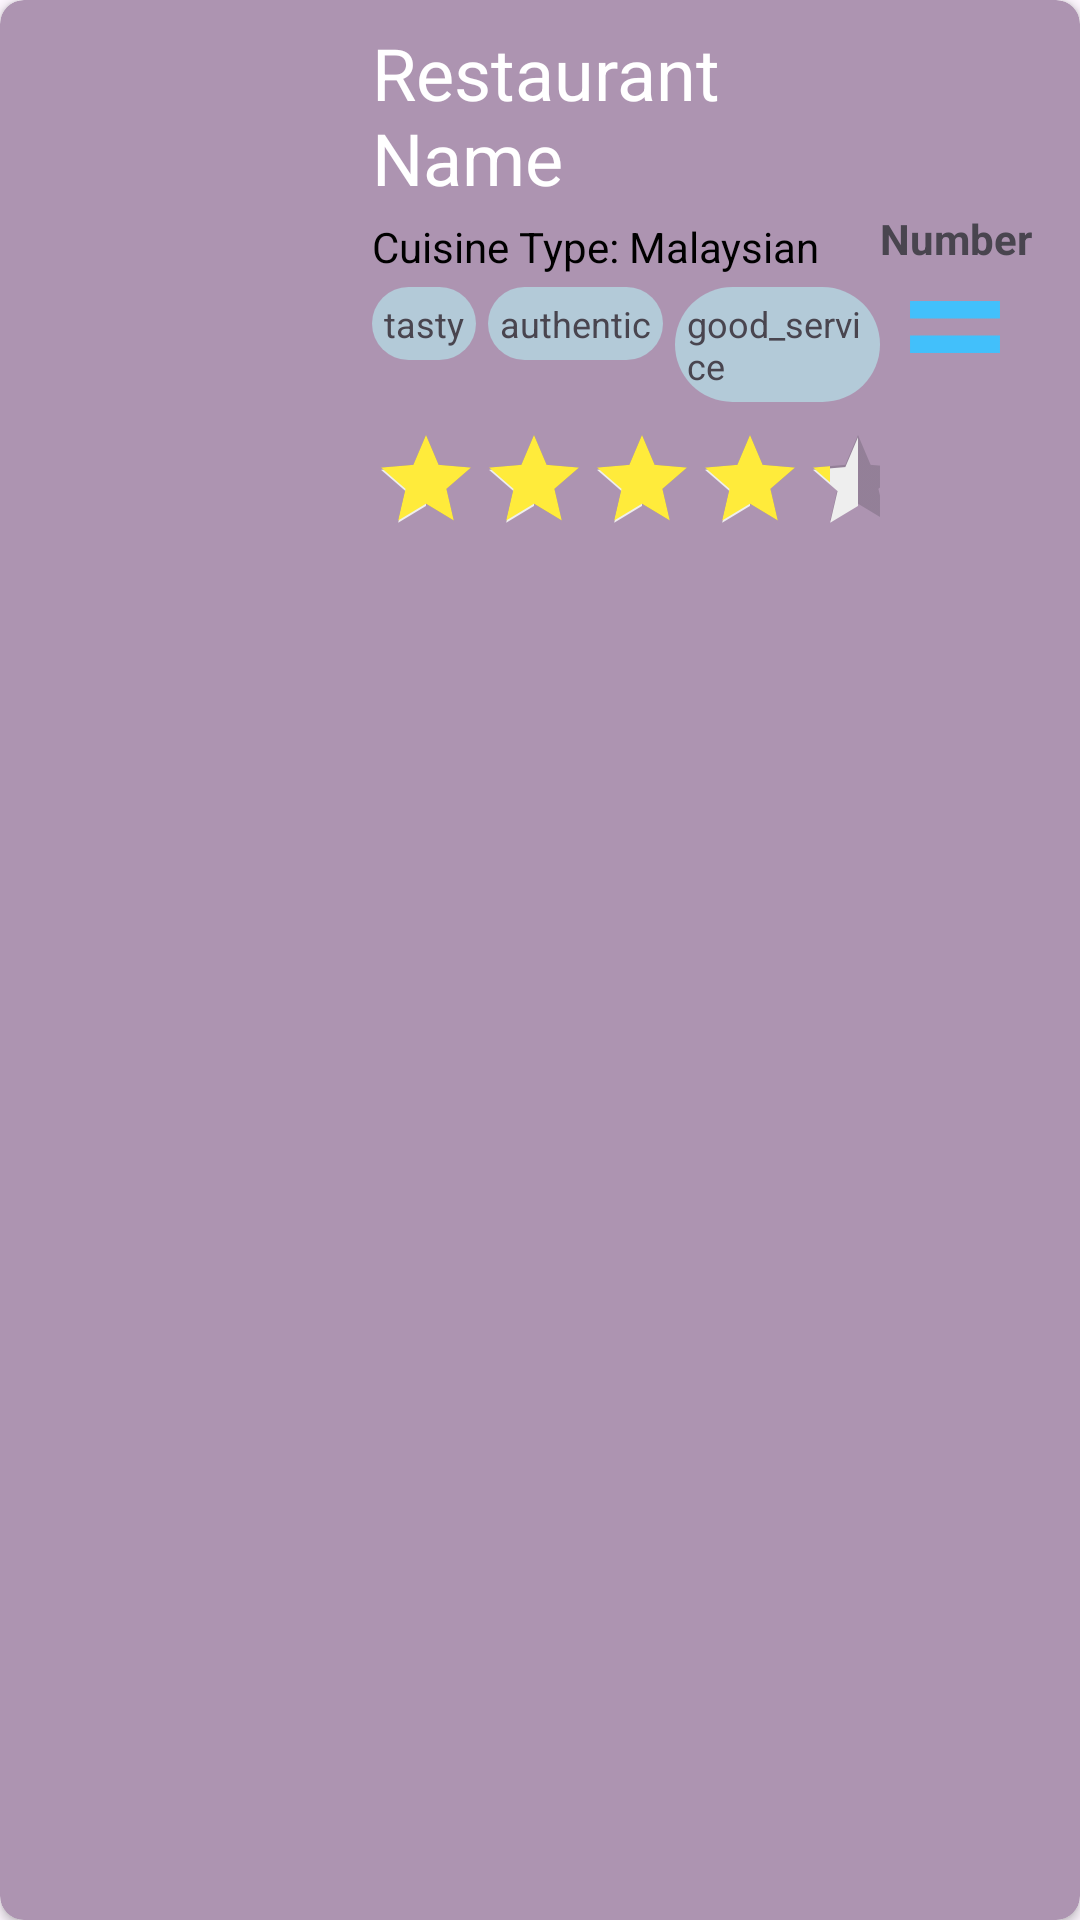

Screen size 1080px×1920px. Icon name, then its center in pixels as (x=x, y=y):
equal: (x=955, y=327)
